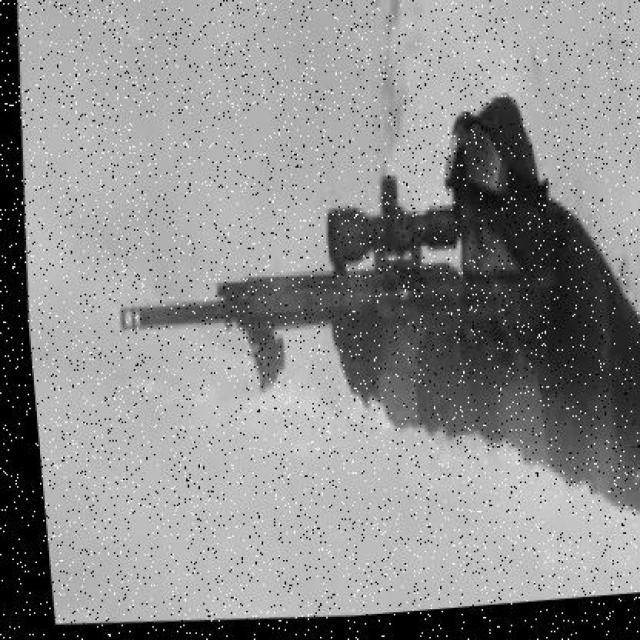weapon: (117, 174, 557, 428)
